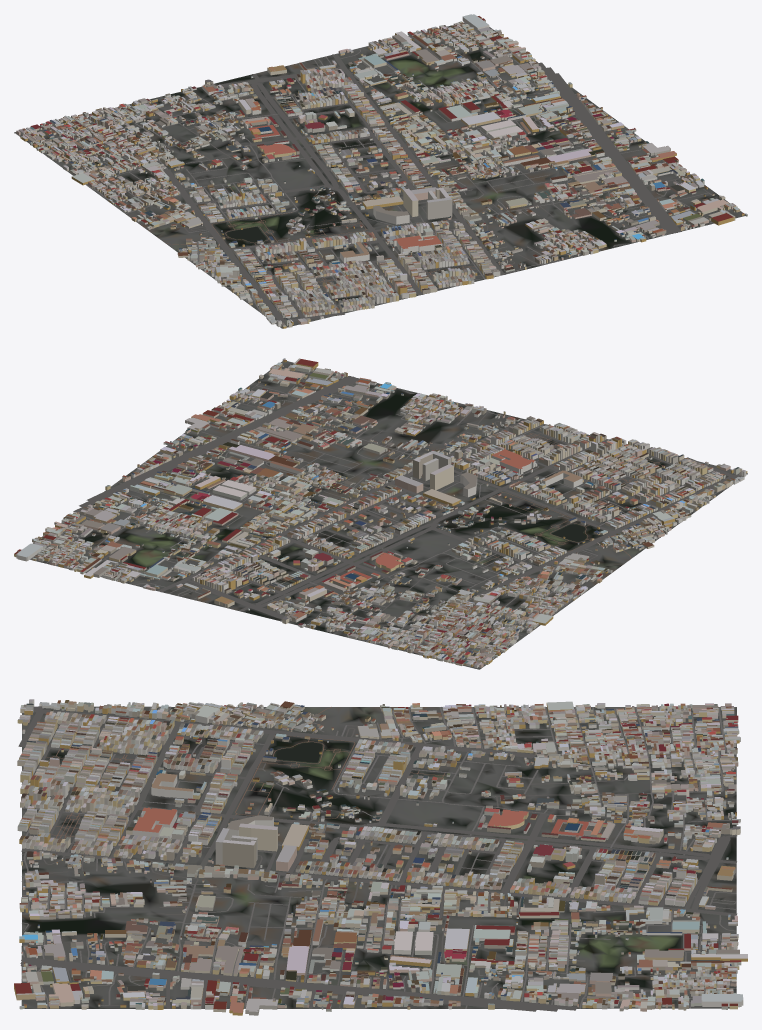
3 renders of one model, top to bottom at view 1: azimuth 30°, elevation 25°; view 2: azimuth 150°, elevation 25°; view 3: azimuth 270°, elevation 25°, orthographic. The views are drawn at different scales.
Parts seen in each view (by area): view 1: buildings, ground, roads; view 2: buildings, ground, roads; view 3: buildings, ground, roads, water.
Boxes of the visible parts, box(x1,y1,x2,y2) form: buildings: box(16, 14, 747, 328); ground: box(14, 22, 745, 328); roads: box(39, 22, 732, 327); buildings: box(14, 358, 747, 667); ground: box(31, 361, 747, 669); roads: box(30, 368, 742, 664); buildings: box(14, 699, 747, 1015); ground: box(21, 706, 736, 1008); roads: box(18, 706, 737, 1011); water: box(276, 742, 322, 762).
Bounding box in the file's own units: 1444 × 52.54 × 1438.
